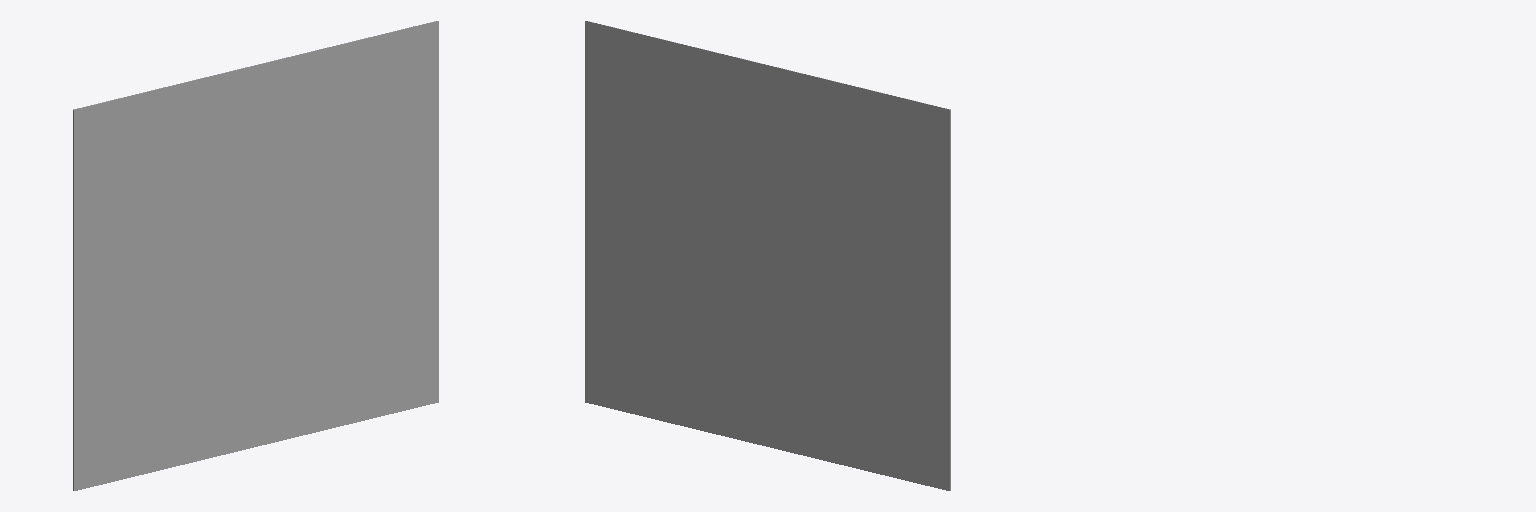
robot.urdf — ground_skeleton:
<?xml version="1.0"?>
<robot name="ground_skeleton">
    <link name="world" />
    <link name="ground_link">
        <inertial>
            <mass value="1.0" />
            <origin xyz="0 0 0" rpy="0 0 0" />
            <inertia ixx="1.0" ixy="0" ixz="0" iyy="1.0" iyz="0" izz="1.0" />
        </inertial>
        <visual>
            <origin xyz="0 -0.025 0" rpy="0 -0 0" />
            <geometry>
                <box size="25 0.05 25" />
            </geometry>
            <material name="">
                <color rgba="0.752941176470588 0.752941176470588 0.752941176470588 1" />
            </material>
        </visual>
        <collision group="default">
            <origin xyz="0 -0.025 0" rpy="0 -0 0" />
            <geometry>
                <box size="25 0.05 25" />
            </geometry>
        </collision>
    </link>
    <joint name="ground_joint" type="fixed">
        <origin xyz="0 0 0" rpy="0 0 0" />
        <parent link="world" />
        <child link="ground_link" />
    </joint>
</robot>

--- What the picture shows (computed from the rendered views, not written in the file) ---
The picture shows the robot from 3 angles, left to right: view 1: azimuth 30°, elevation 25°; view 2: azimuth 150°, elevation 25°; view 3: azimuth 270°, elevation 25°; orthographic projection.
Robot: ground_skeleton — 2 links, 1 joints (1 fixed); root link world; default pose: all joints at 0.
Visible links, largest first — view 1: ground_link; view 2: ground_link; view 3: none.
Boxes of the visible links, x1,y1,x2,y2 form: ground_link: [73, 21, 438, 490]; ground_link: [585, 21, 950, 490].
Size in the robot's own frame: 25 by 0.05 by 25 metres.
Geometry: primitives only (box / cylinder / sphere), no mesh files.